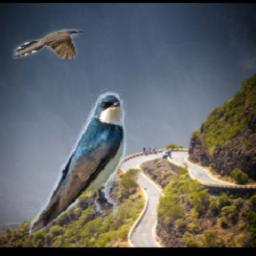Cuckoo: (14, 29, 83, 59)
Swallow: (25, 88, 128, 235)
